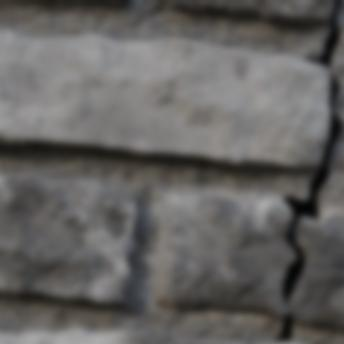brick: (0, 30, 329, 169), (0, 174, 137, 302), (158, 0, 333, 25), (0, 328, 251, 343), (80, 0, 130, 5)
broken_brick: (152, 191, 294, 316), (291, 216, 343, 327)
crack: (274, 0, 343, 343), (153, 262, 160, 296)
